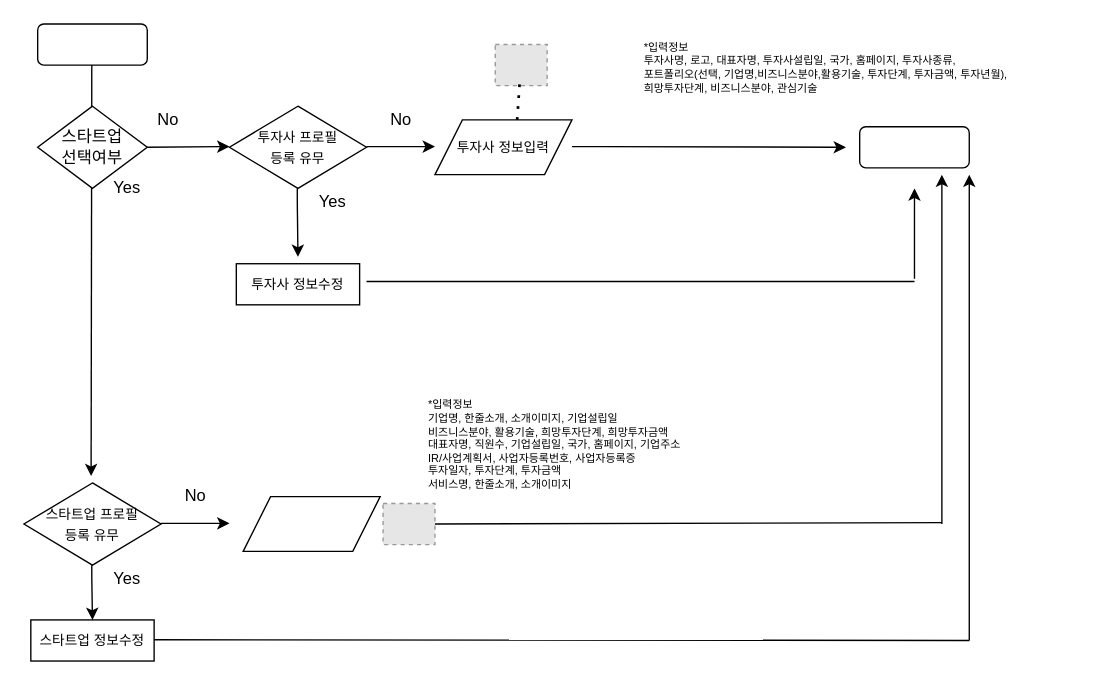
Some shapes in this 1103 by 685 pixel diagram are drawn without their labels. Grey dashed boxes stand in for pictures. Here are the shapes that lost their labels. From the top down, the centre of each, then its label:
At (91,44): "시작".
At (913,146): "종료".
At (311,523): "스타트업 정보입력".
